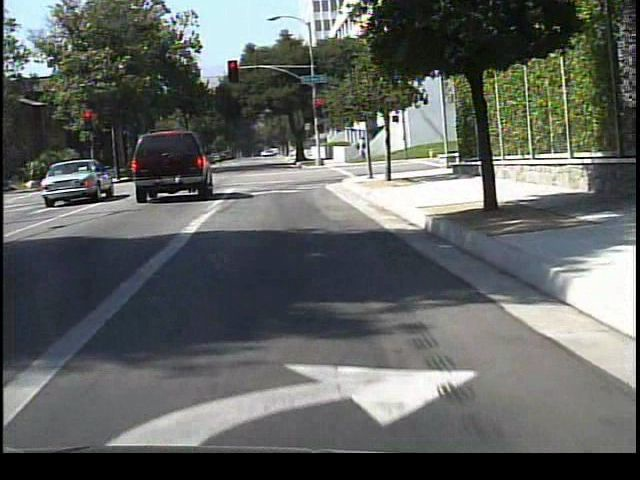person: (352, 136, 367, 165)
